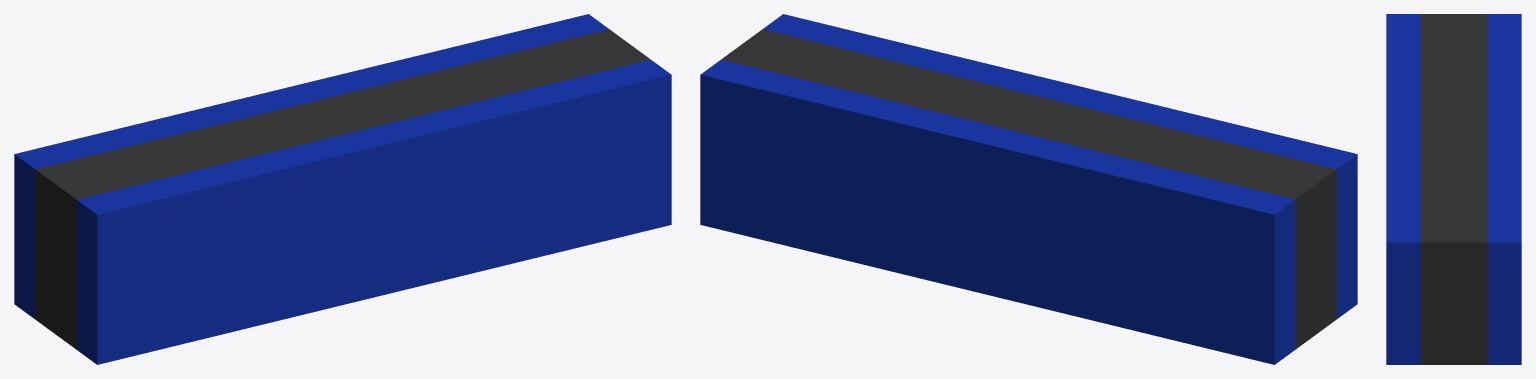
The model's file is wall.gltf.
3 views of the same model, side by side, from view 1: azimuth 30°, elevation 25°; view 2: azimuth 150°, elevation 25°; view 3: azimuth 270°, elevation 25° (orthographic). The views are drawn at different scales.
Parts seen in each view (by area): view 1: OuterWall, InnerWall; view 2: OuterWall, InnerWall; view 3: OuterWall, InnerWall.
Part boxes in pixels (x1,y1,x2,y2): OuterWall: [14, 14, 671, 364]; InnerWall: [35, 29, 650, 349]; OuterWall: [700, 14, 1357, 364]; InnerWall: [721, 29, 1336, 349]; OuterWall: [1386, 14, 1521, 364]; InnerWall: [1420, 14, 1487, 364].
Size of the model in its own units: 16 by 4 by 4.
Materials: 2 (2 with a texture image).
